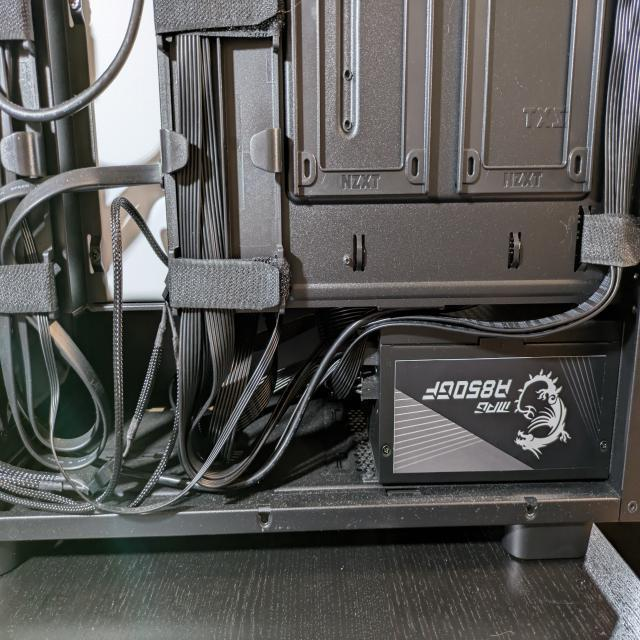PSU: (360, 308, 626, 483)
